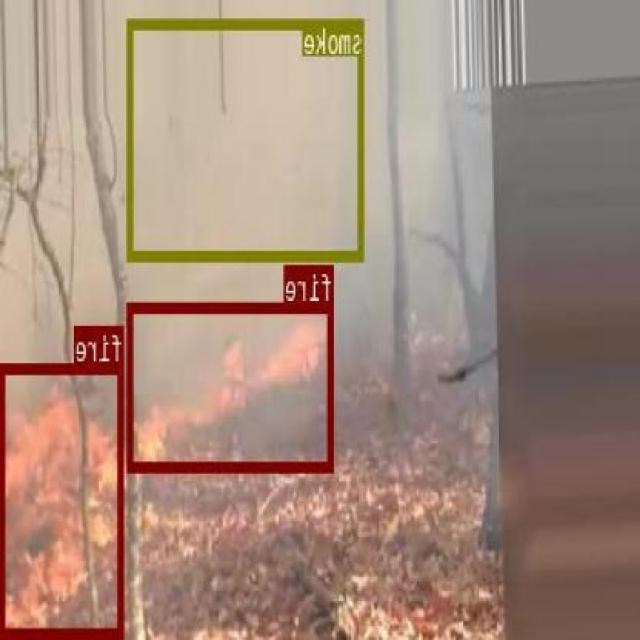Fire: (128, 300, 334, 471), (0, 363, 126, 637)
Smoke: (130, 18, 364, 260)
